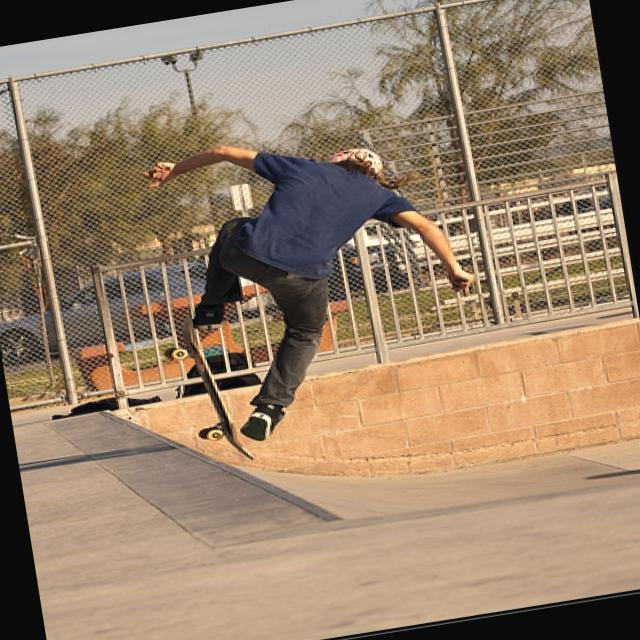Vehicle: (0, 258, 214, 366)
